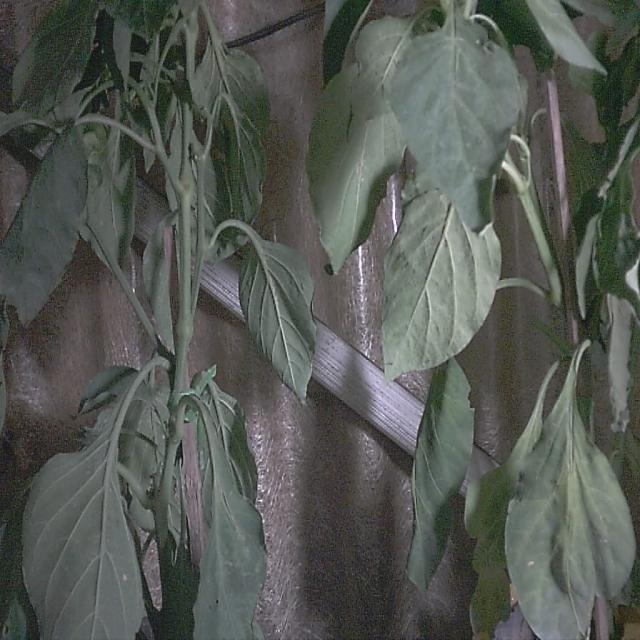Leaf: (505, 341, 635, 638), (391, 12, 520, 229), (382, 191, 501, 379), (0, 130, 86, 324), (407, 359, 473, 593), (239, 235, 316, 401), (12, 0, 98, 114)
